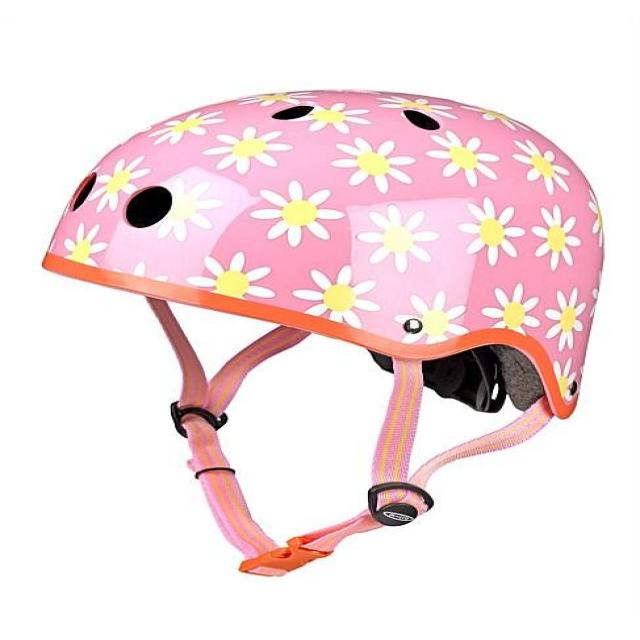Helmet: (38, 86, 605, 421)
